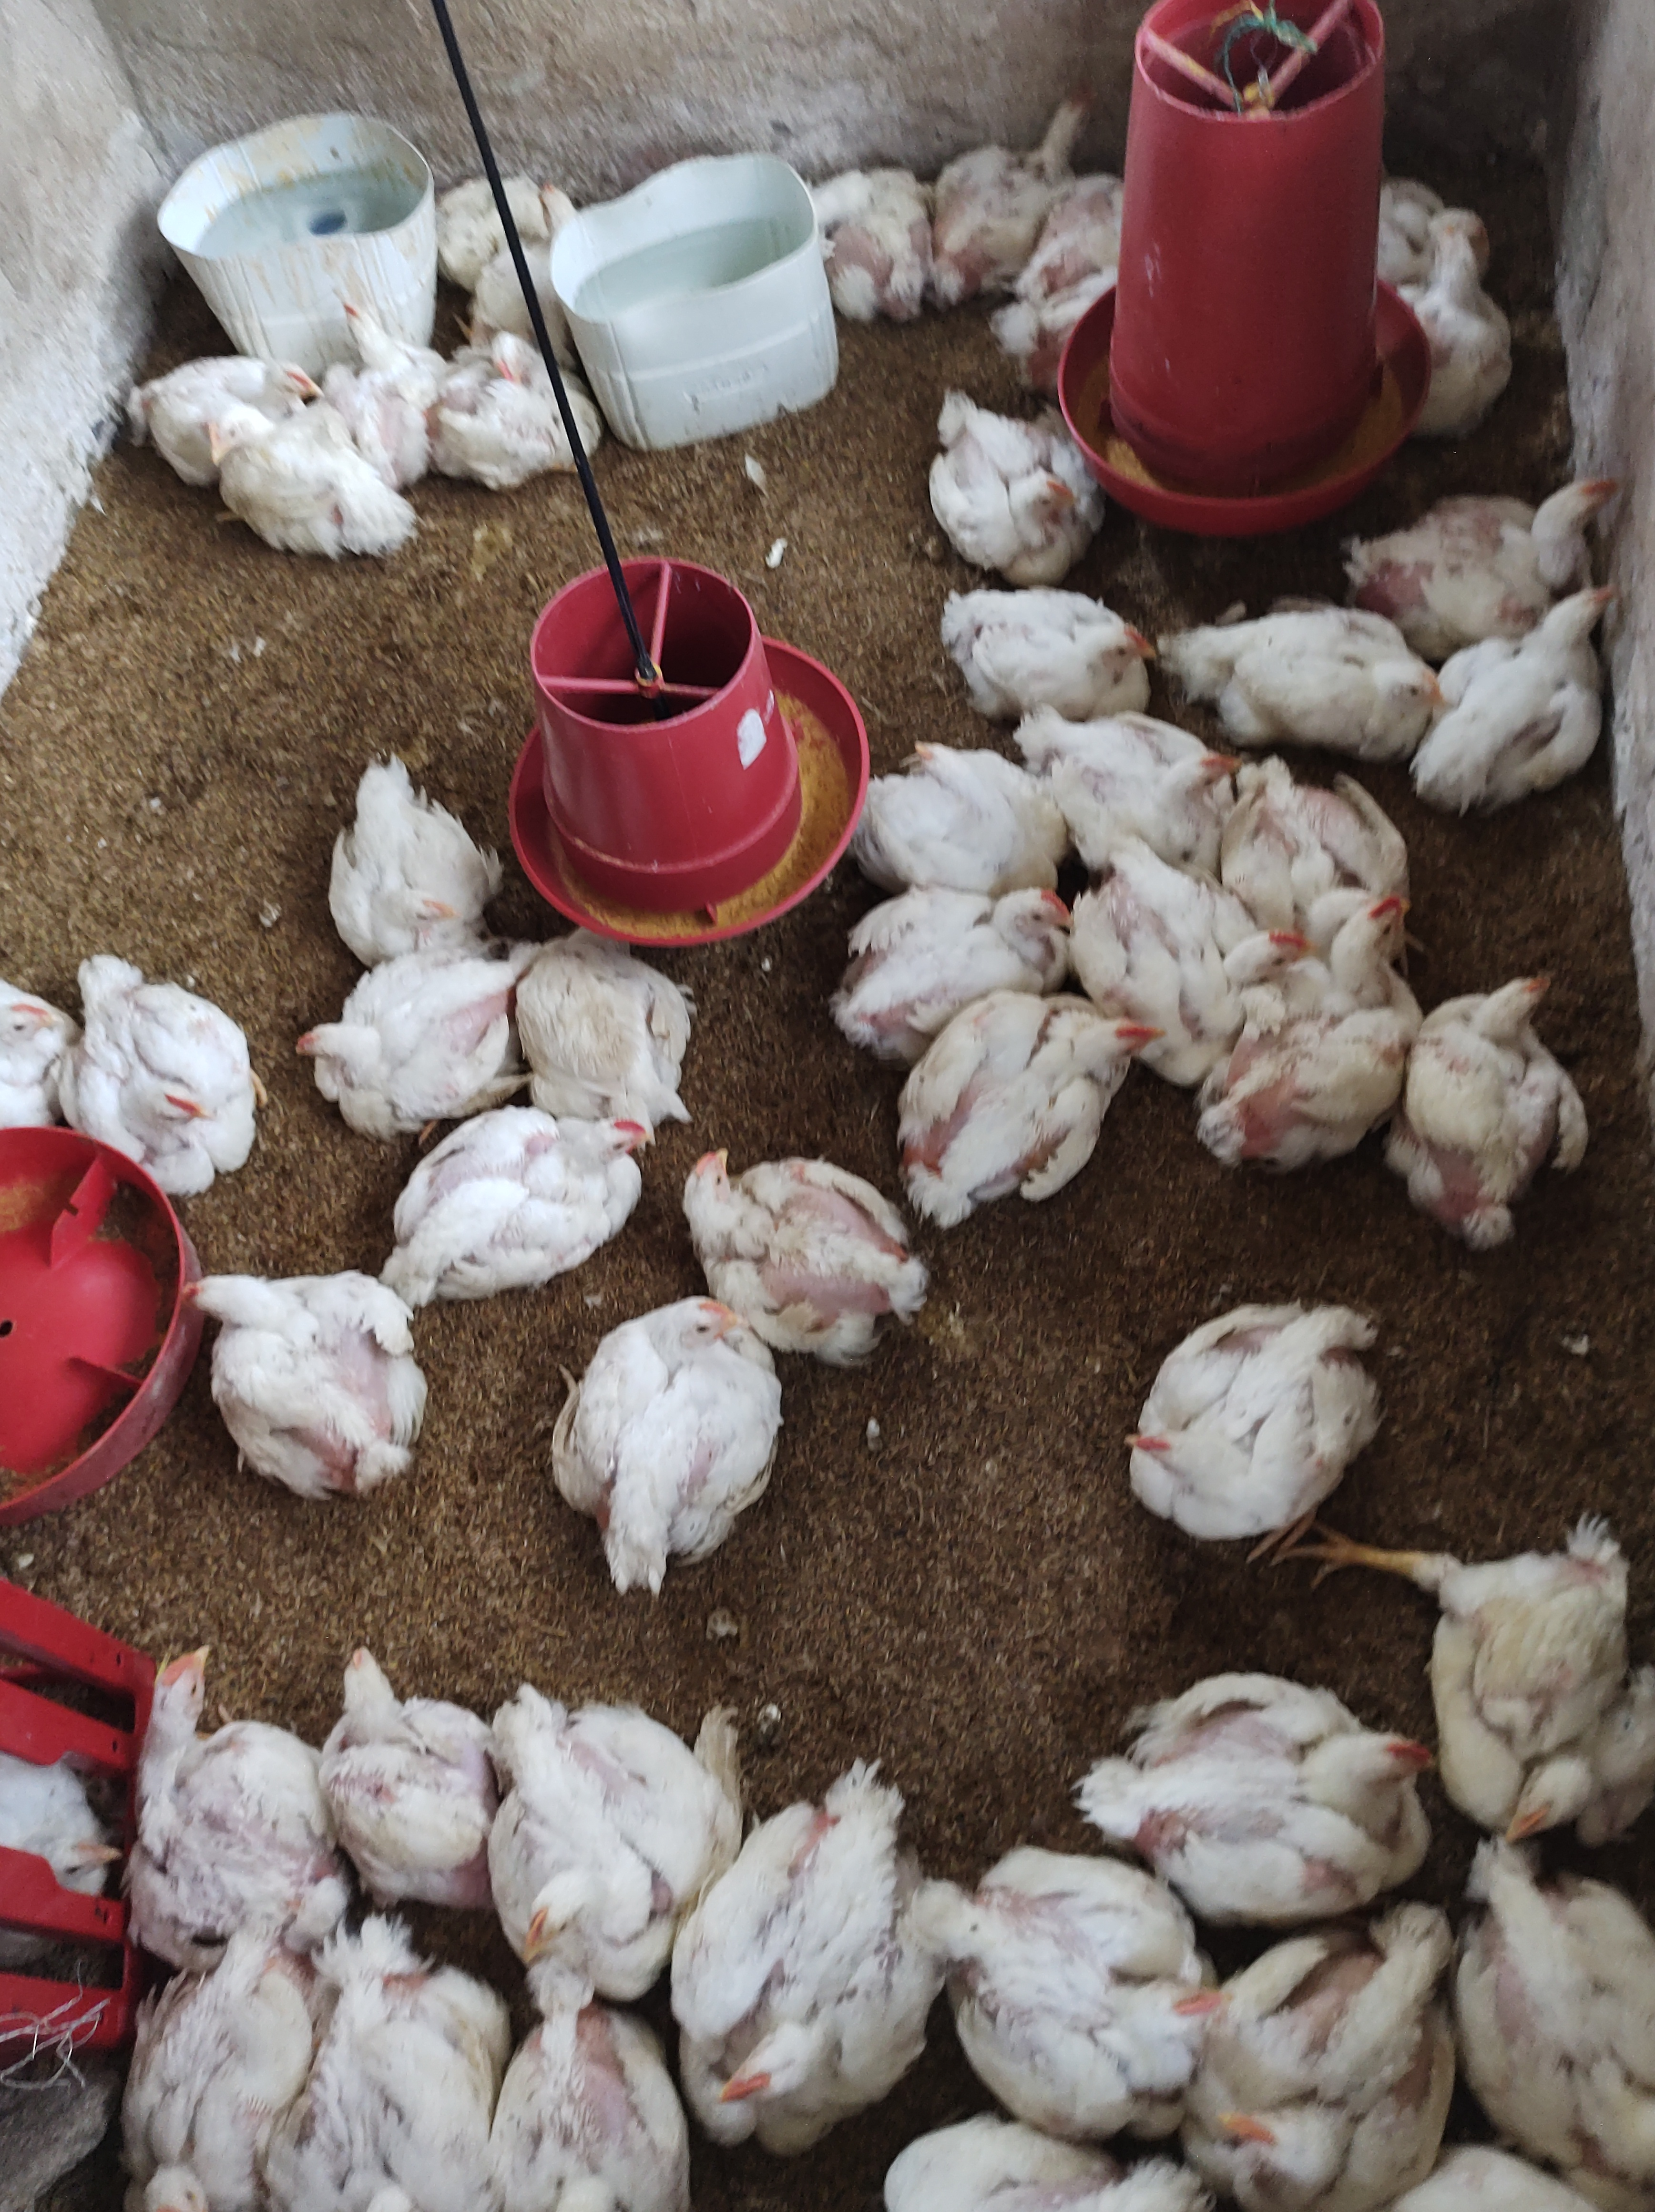Pollos: (680, 1762, 961, 2141), (1081, 1668, 1450, 1918), (1203, 1913, 1497, 2212), (1116, 1276, 1403, 1576), (942, 1836, 1233, 2111), (548, 1282, 786, 1598), (487, 1720, 737, 2005), (1459, 1520, 1655, 1862), (1467, 1856, 1655, 2202), (897, 981, 1154, 1228), (661, 1130, 927, 1355), (132, 1668, 353, 1935), (1238, 885, 1452, 1158), (183, 1259, 428, 1496), (97, 1939, 302, 2210), (389, 1099, 654, 1309), (304, 1946, 501, 2212), (1392, 976, 1584, 1247), (75, 944, 264, 1217), (299, 949, 556, 1141), (1083, 856, 1302, 1078), (506, 1965, 701, 2212), (1412, 577, 1615, 803), (334, 1628, 497, 1906), (320, 744, 520, 949), (1170, 593, 1438, 746), (520, 916, 694, 1144), (833, 885, 1087, 1040), (205, 403, 417, 581), (883, 2099, 1210, 2212), (1337, 471, 1617, 602), (869, 737, 1074, 904), (935, 82, 1081, 315), (928, 388, 1104, 577), (1052, 697, 1229, 863), (1001, 155, 1153, 346), (1231, 756, 1410, 916), (123, 339, 316, 485), (440, 327, 610, 489), (803, 122, 928, 336), (953, 593, 1146, 722), (1389, 233, 1516, 426), (2, 1749, 130, 1901), (478, 190, 605, 339), (435, 150, 551, 276), (316, 275, 440, 390), (0, 972, 75, 1156)
